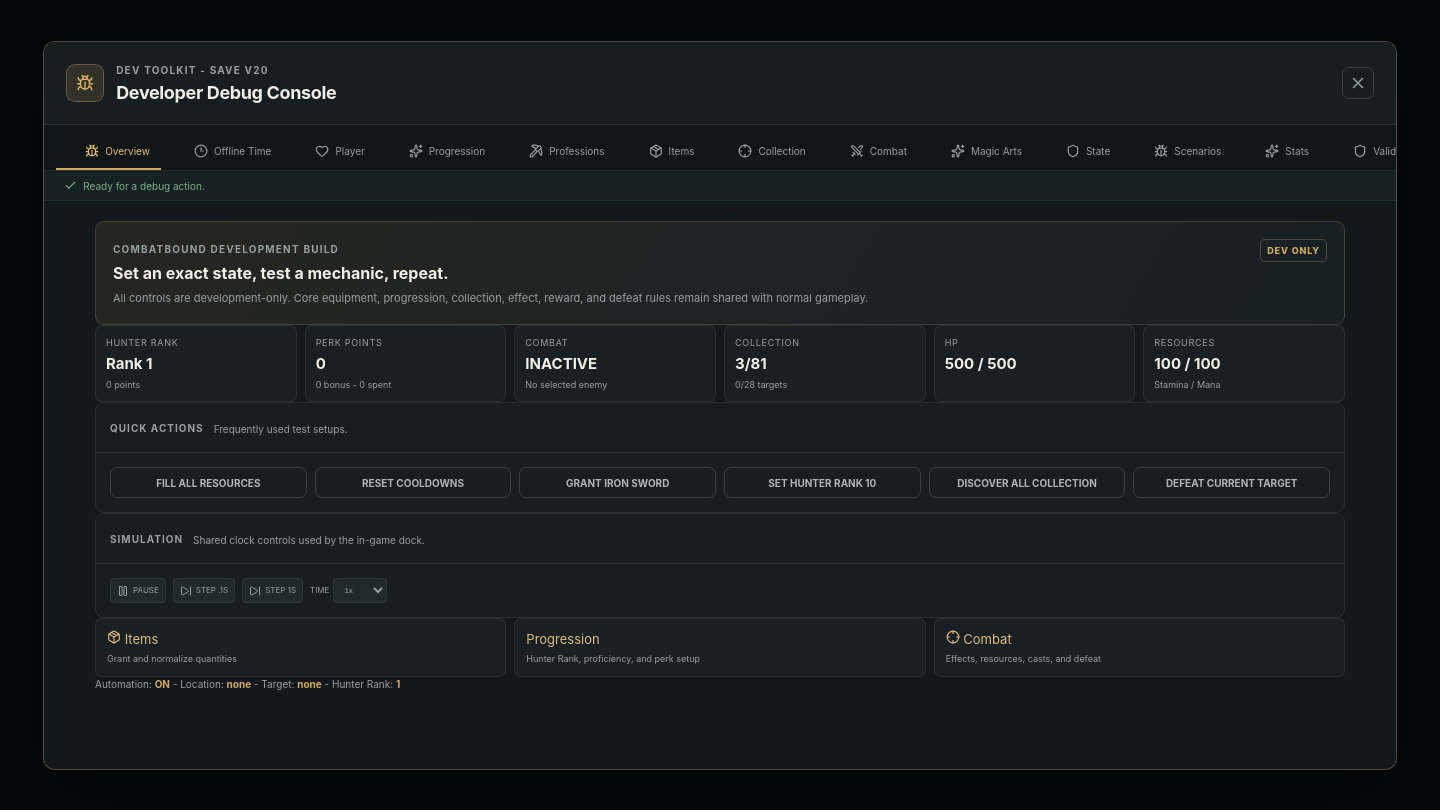
Test: Developer Toolkit V9.3.1 selector stability › switches from Overview to Combat safely with no selected enemy
This screenshot has width=1440, height=810.
Click the button "Combat" at (869, 152), box [821,133,918,170]
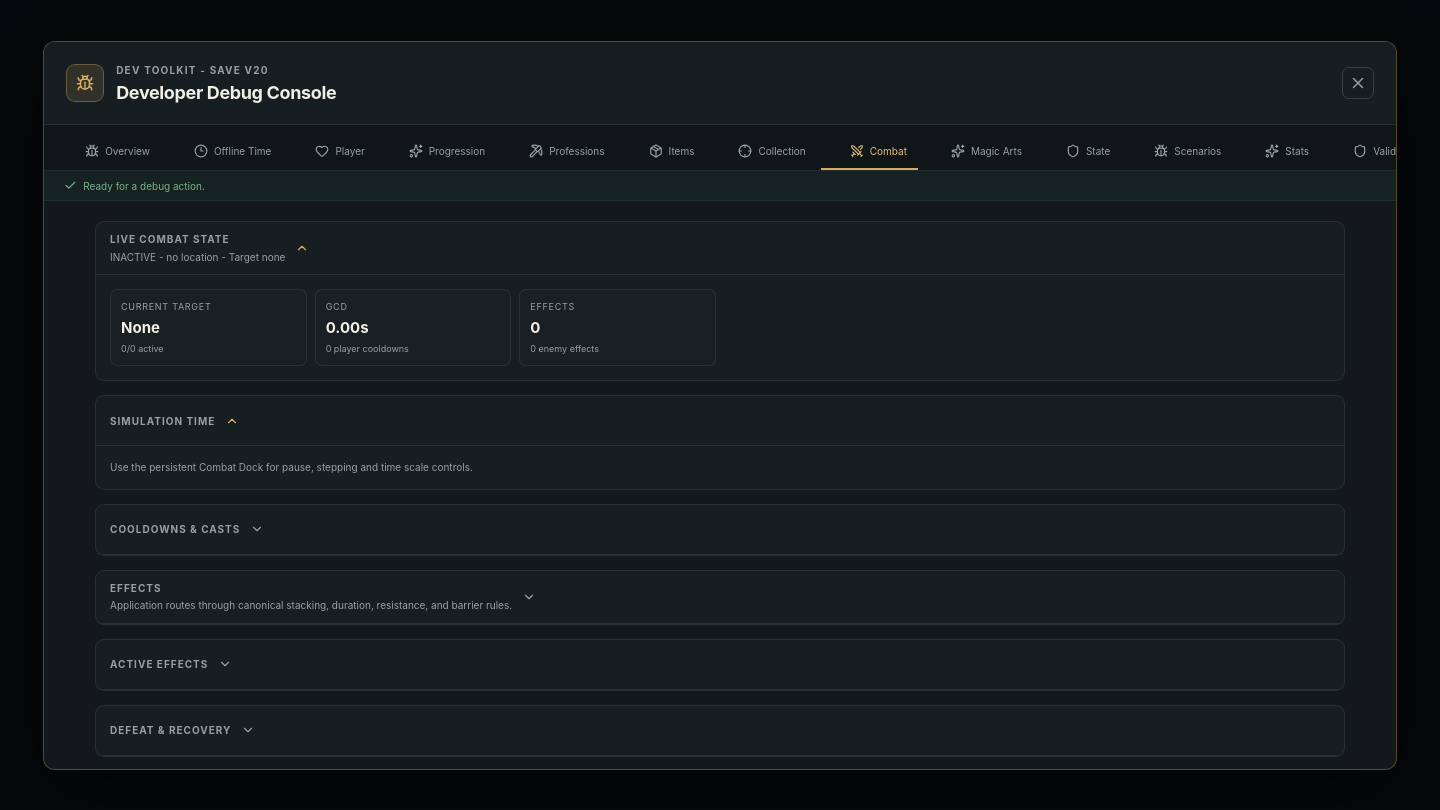
Expected: the text "LIVE COMBAT STATE" is shown, [110,233,230,245]
